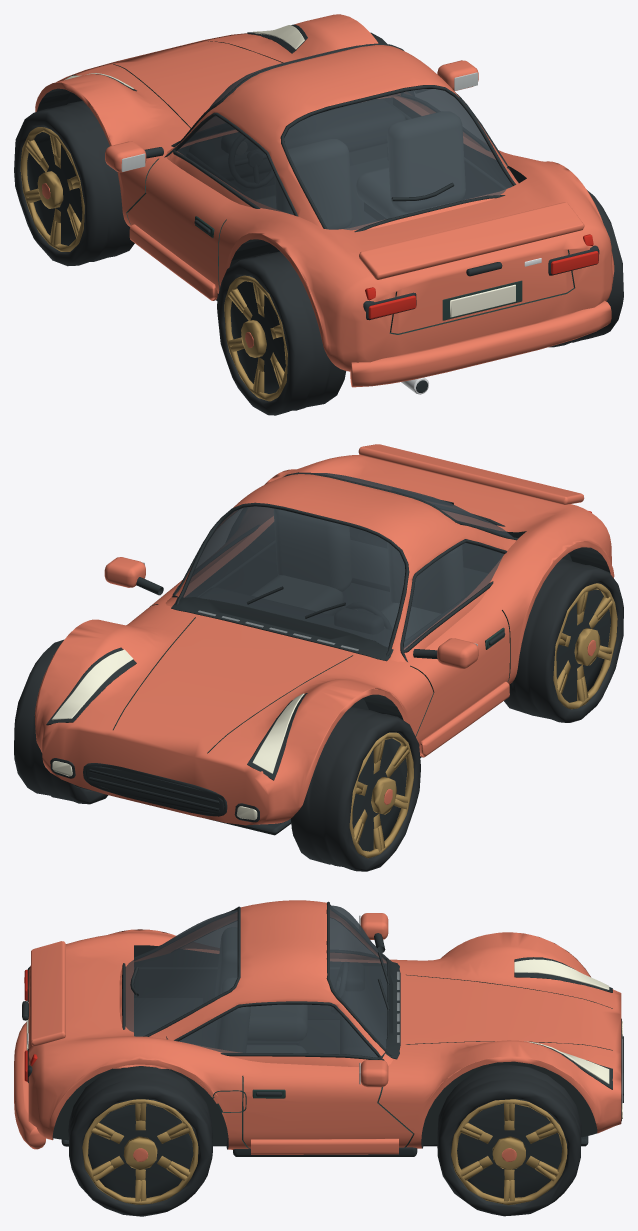
File: kaze_lod2.fbx
3 views of the same model, one above another, from view 1: azimuth 30°, elevation 25°; view 2: azimuth 150°, elevation 25°; view 3: azimuth 270°, elevation 25° (orthographic). The views are drawn at different scales.
Visible parts, largest first — view 1: Body, Wheel_FL_Mesh, Wheel_RL_Mesh, Wheel_RR_Mesh; view 2: Body, Wheel_FL_Mesh, Wheel_RL_Mesh, Wheel_FR_Mesh; view 3: Body, Wheel_FR_Mesh, Wheel_RR_Mesh.
Part boxes in pixels (x1,y1,x2,y2): Body: (35, 14, 614, 394); Wheel_FL_Mesh: (14, 100, 134, 266); Wheel_RL_Mesh: (217, 251, 346, 415); Wheel_RR_Mesh: (549, 190, 623, 347); Body: (34, 444, 614, 835); Wheel_FL_Mesh: (291, 706, 420, 871); Wheel_RL_Mesh: (504, 558, 623, 722); Wheel_FR_Mesh: (14, 639, 107, 804); Body: (14, 900, 623, 1156); Wheel_FR_Mesh: (437, 1064, 581, 1216); Wheel_RR_Mesh: (68, 1066, 212, 1216).
Size of the model in its own units: 231 by 147 by 371.
